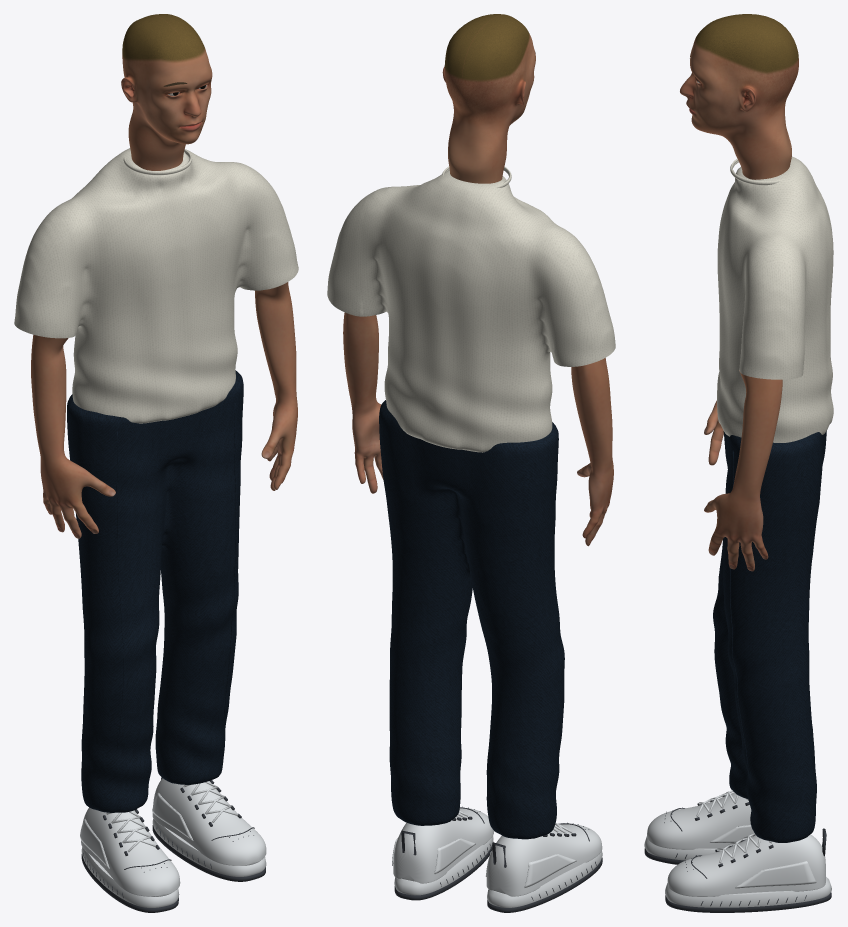
File: rapper-v10.glb
3 views of the same model, side by side, from view 1: azimuth 30°, elevation 25°; view 2: azimuth 150°, elevation 25°; view 3: azimuth 270°, elevation 25° (orthographic).
Parts seen in each view (by area): view 1: raper-pants, raper-hoodie, raper-skin, raper-shoes, raper-gold; view 2: raper-pants, raper-hoodie, raper-skin, raper-shoes, raper-gold; view 3: raper-pants, raper-hoodie, raper-skin, raper-shoes, raper-gold.
Boxes of the visible parts, x1,y1,x2,y2 form: raper-pants: (67,370,243,812); raper-hoodie: (14,148,298,423); raper-skin: (31,14,297,538); raper-shoes: (80,778,266,907); raper-gold: (81,777,265,912); raper-pants: (379,400,564,839); raper-hoodie: (327,166,615,452); raper-skin: (343,14,613,546); raper-shoes: (392,808,602,907); raper-gold: (394,806,602,912); raper-pants: (713,431,826,842); raper-hoodie: (717,156,833,442); raper-skin: (680,14,798,571); raper-shoes: (644,790,831,907); raper-gold: (644,795,831,912).
Bounding box in the file's own units: 0.6142 × 1.8 × 0.36.
Materials: 7 (4 with a texture image).
